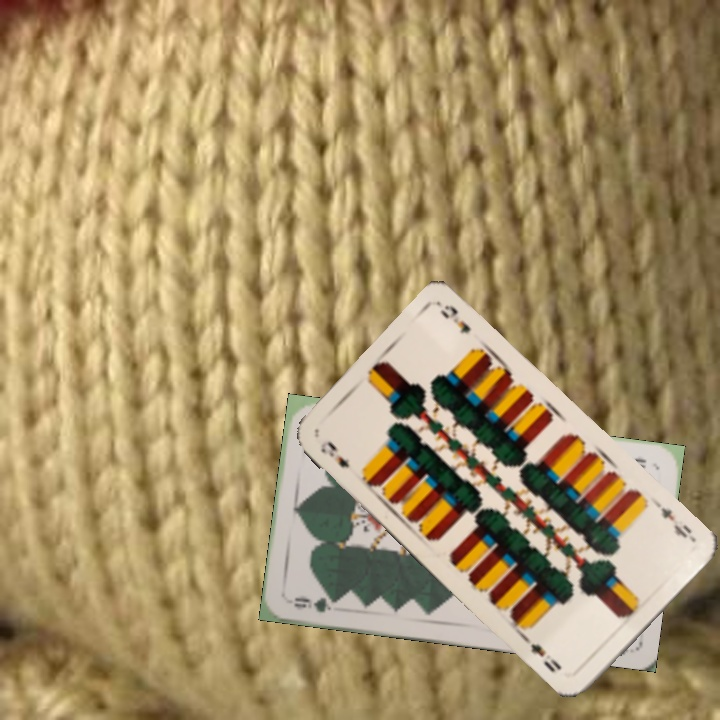E9: (651, 497, 697, 544), (316, 436, 353, 471)
G9: (289, 593, 343, 615)
